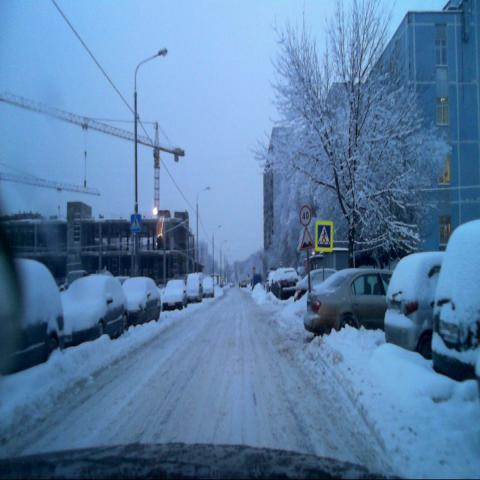1_16: (299, 228, 313, 250)
